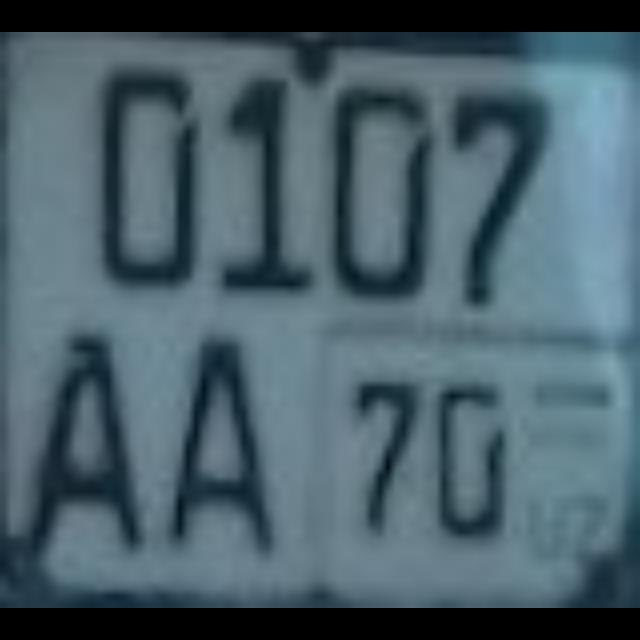0: (80, 56, 184, 272), (312, 72, 416, 288), (424, 368, 496, 520)
1: (200, 64, 296, 272)
7: (440, 72, 536, 296), (344, 368, 416, 528)
A: (16, 320, 136, 544), (160, 328, 264, 536)
